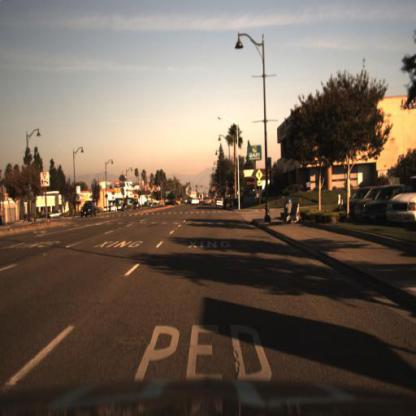car: (339, 182, 372, 212), (78, 198, 96, 221), (214, 196, 225, 210)
